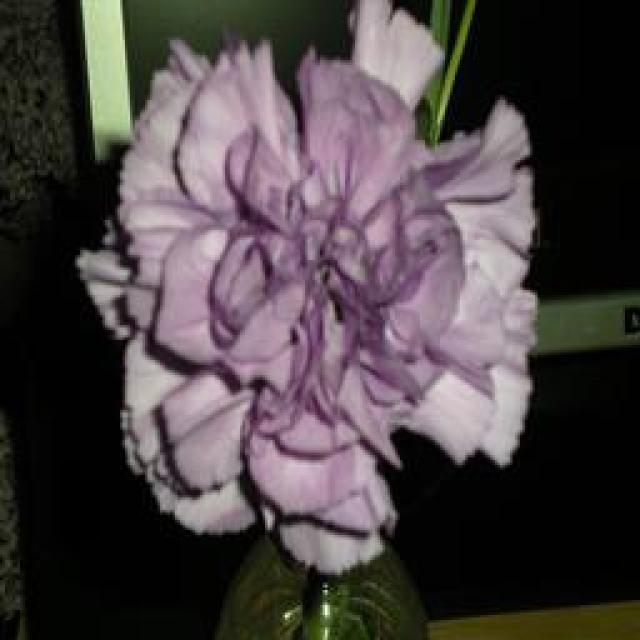carnation: (75, 13, 577, 542)
